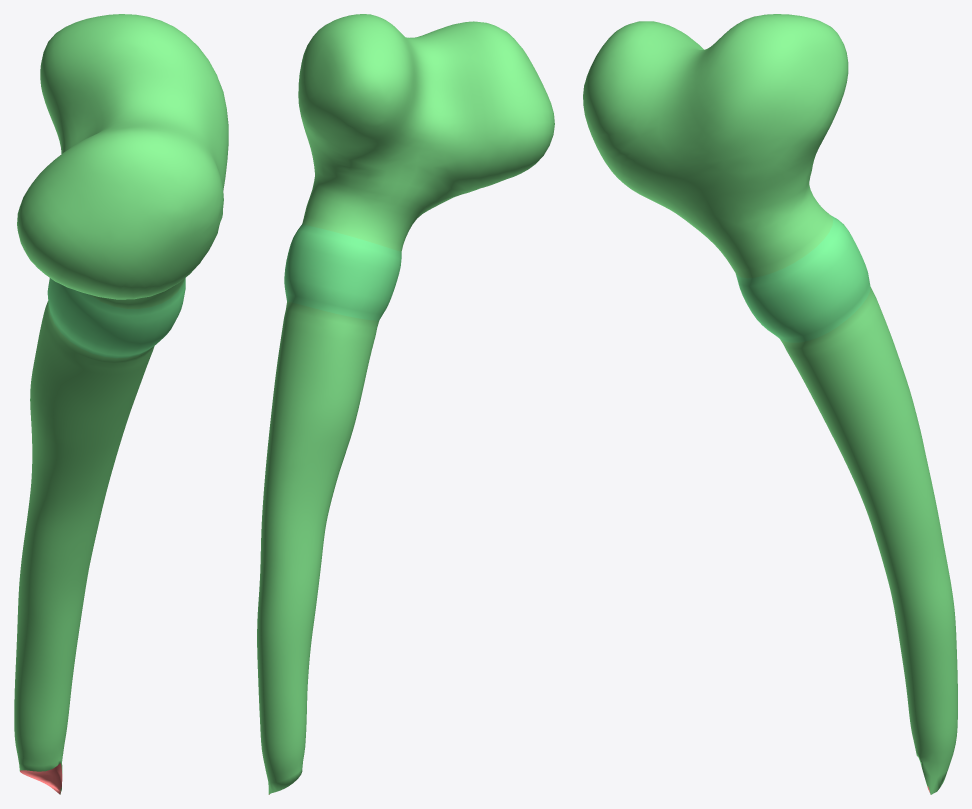
Rendered from bone_rod.fbx.
The picture shows the model from 3 angles, left to right: view 1: azimuth 30°, elevation 25°; view 2: azimuth 150°, elevation 25°; view 3: azimuth 270°, elevation 25°; orthographic projection. The views are drawn at different scales.
Parts seen in each view (by area): view 1: UMesh_PolySphere_1_1; view 2: UMesh_PolySphere_1_1; view 3: UMesh_PolySphere_1_1.
Part boxes in pixels (left/top/right/bottom): UMesh_PolySphere_1_1: left=14, top=14, right=228, bottom=794; UMesh_PolySphere_1_1: left=257, top=14, right=554, bottom=794; UMesh_PolySphere_1_1: left=583, top=14, right=957, bottom=794.
Bounding box in the file's own units: 2.34 × 8 × 3.55.
